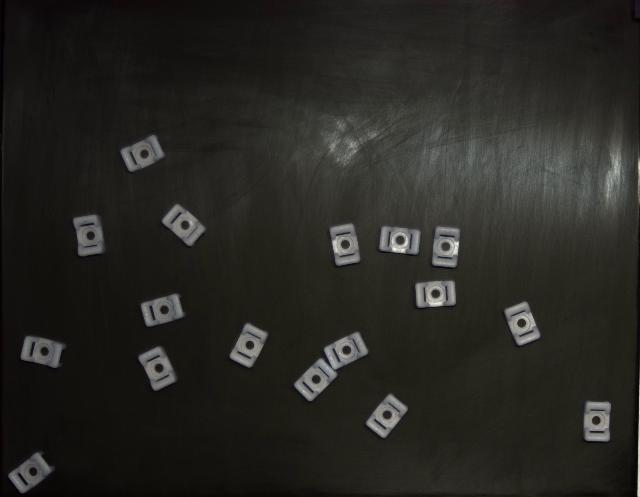first_side: (9, 452, 55, 494), (294, 359, 338, 401), (366, 395, 408, 439), (162, 205, 206, 246), (230, 324, 269, 369), (324, 332, 369, 370), (139, 348, 178, 391), (120, 135, 165, 172), (504, 302, 540, 346), (20, 336, 66, 369), (141, 294, 185, 328), (72, 215, 105, 256), (330, 224, 360, 266), (379, 226, 421, 255), (431, 226, 460, 268), (415, 281, 456, 309), (584, 401, 611, 442)
